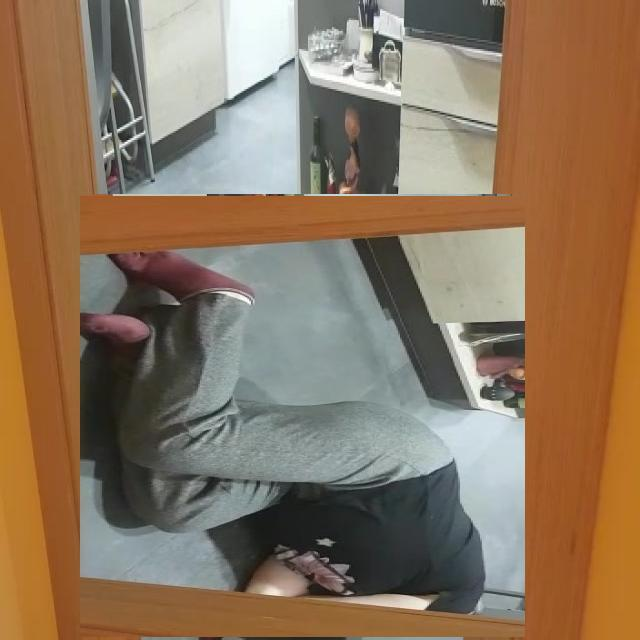Fall: (110, 217, 492, 640)
